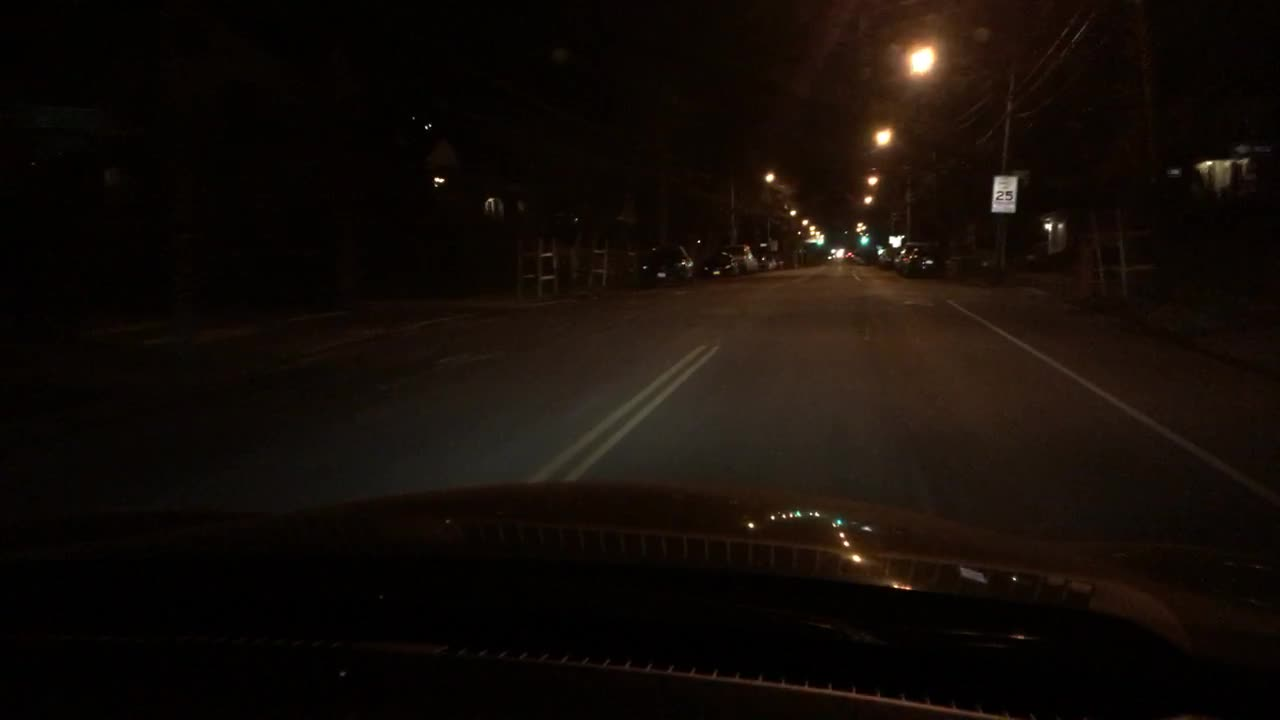car: (636, 241, 695, 287), (901, 245, 941, 280), (725, 239, 761, 273), (700, 250, 737, 277), (891, 241, 926, 268), (759, 253, 783, 272), (876, 245, 894, 268), (842, 246, 855, 261)
traffic light: (859, 231, 869, 246), (813, 234, 823, 248)
traffic sign: (990, 172, 1016, 214), (886, 231, 903, 250)
